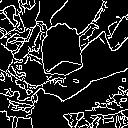cube: (33, 21, 93, 78)
